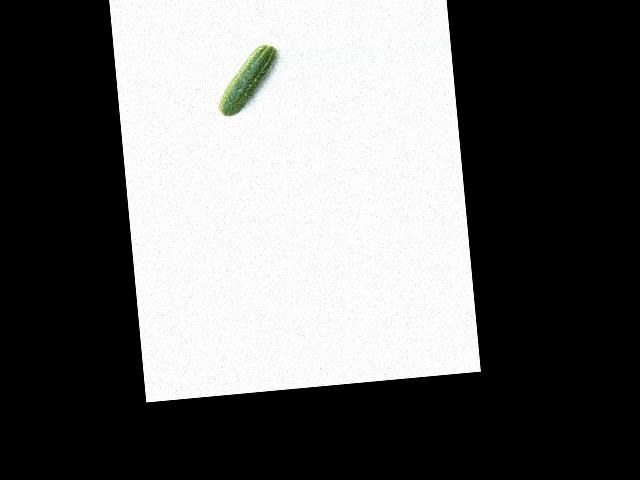cucumber: (213, 43, 282, 116)
